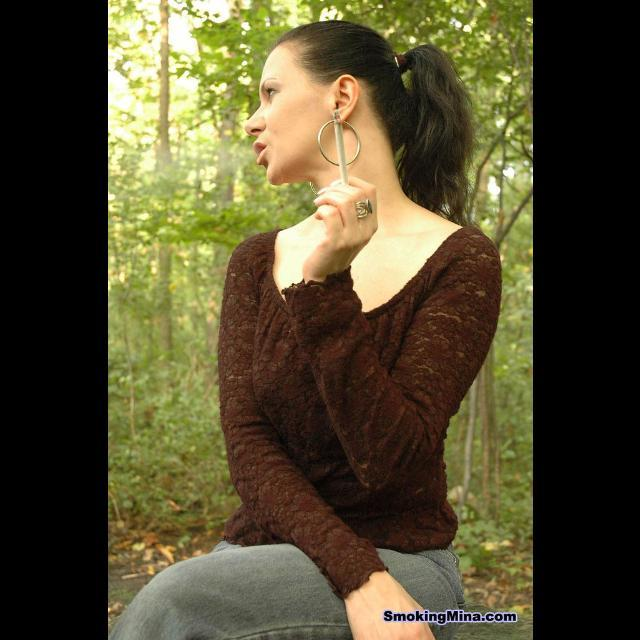rokok: (327, 110, 351, 183)
